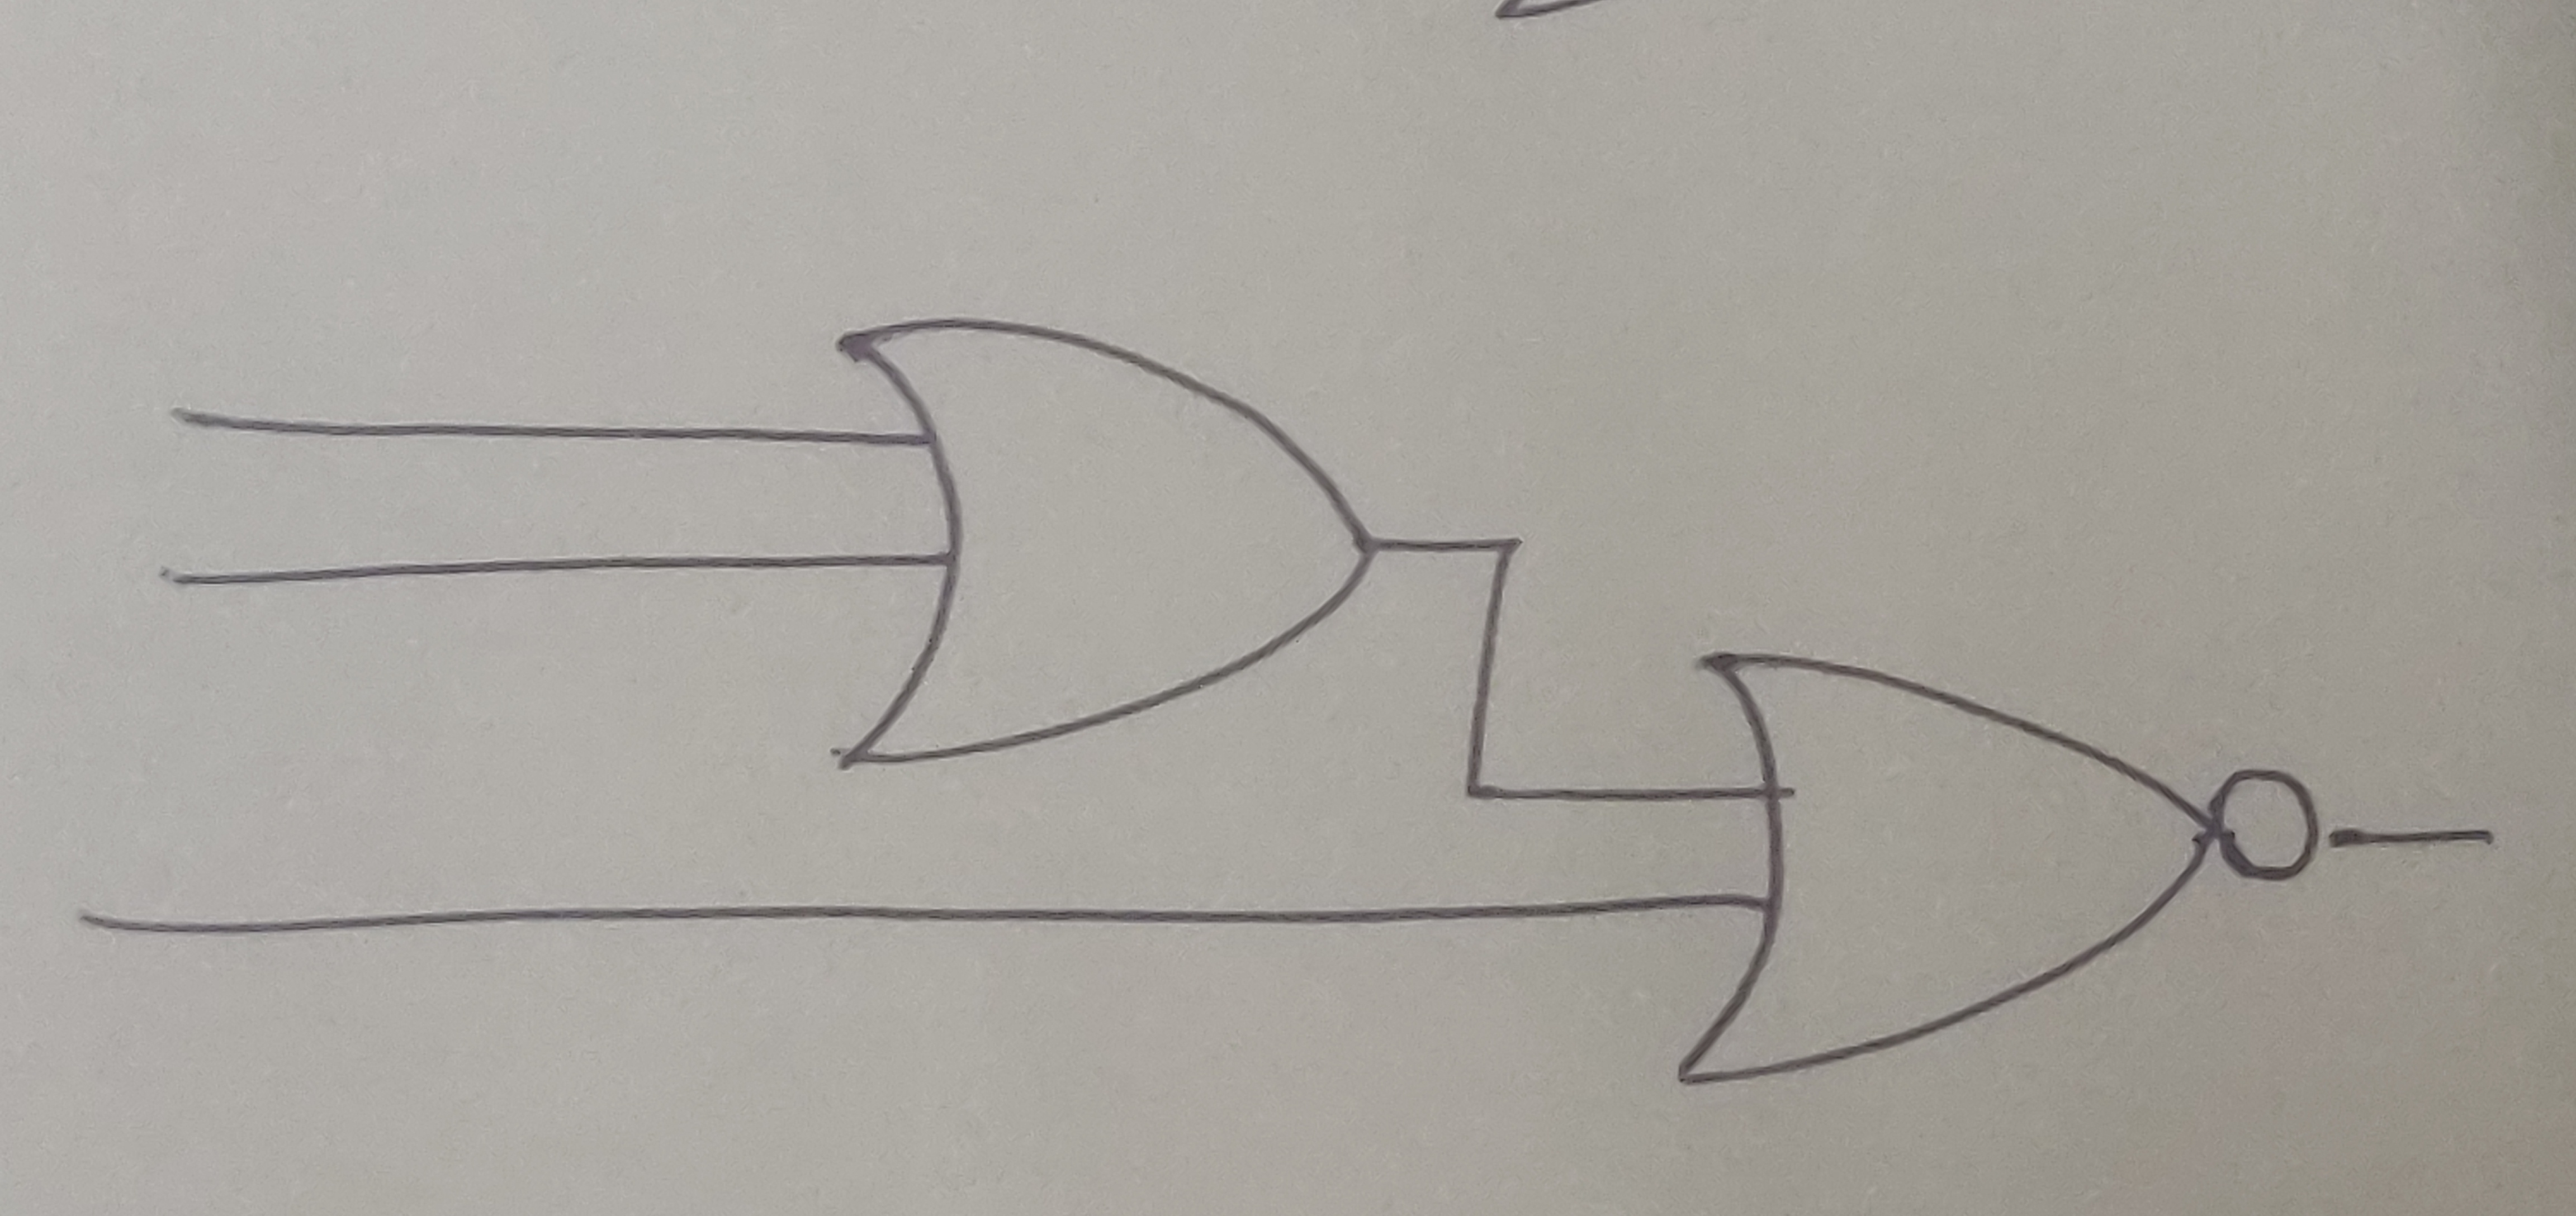not: (2221, 759, 2323, 887)
or: (839, 316, 1380, 766), (1682, 638, 2211, 1091)
